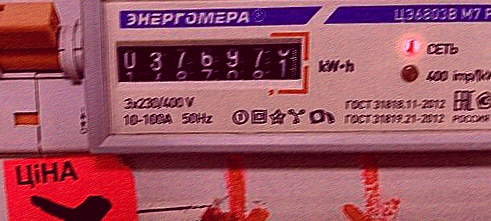0: (121, 46, 138, 68)
1: (277, 56, 289, 77)
3: (148, 48, 163, 71)
6: (200, 44, 213, 66)
7: (174, 44, 188, 68), (251, 44, 265, 67)
9: (225, 44, 239, 67)
screen: (109, 27, 313, 101)
